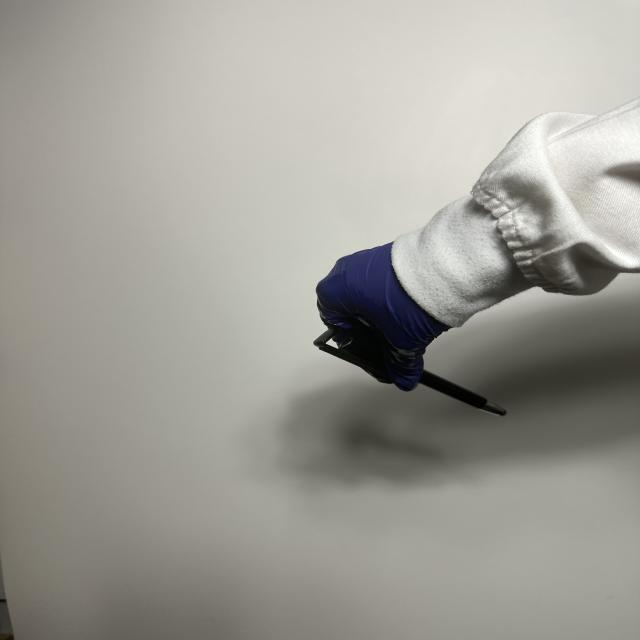gloves_contaminated: (316, 243, 449, 391)
